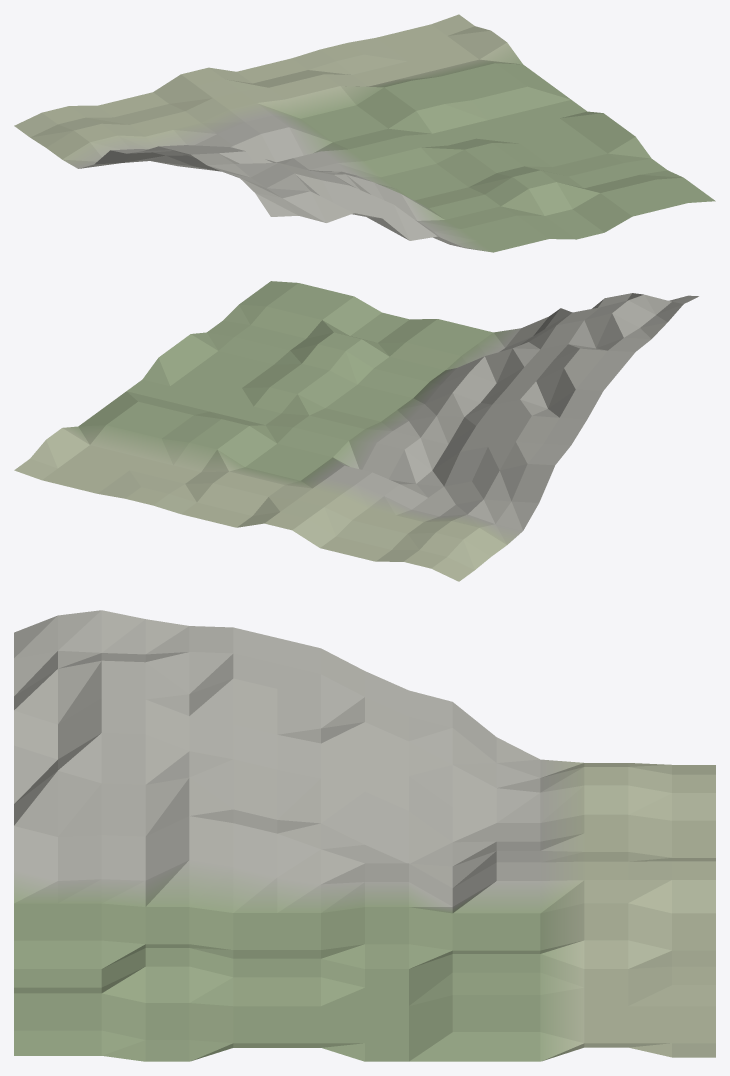
The picture shows the model from 3 angles, top to bottom: view 1: azimuth 30°, elevation 25°; view 2: azimuth 150°, elevation 25°; view 3: azimuth 270°, elevation 25°; orthographic projection. The views are drawn at different scales.
Bounding box in the file's own units: 32 × 8.39 × 32.
